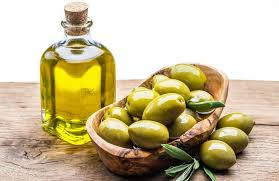olive: (98, 59, 258, 176)
olive oil: (34, 0, 123, 151)
